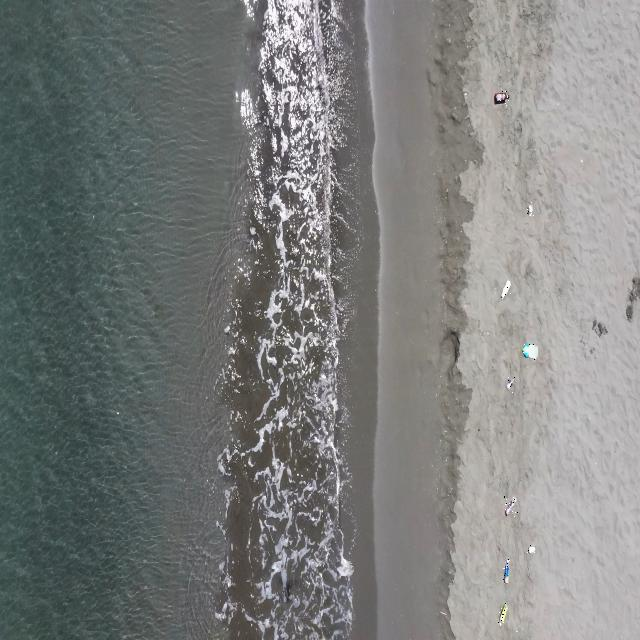Garbage: (504, 496, 515, 515), (500, 280, 510, 299), (523, 344, 535, 359), (493, 91, 507, 103), (499, 603, 507, 624), (506, 376, 515, 388), (503, 557, 507, 583), (527, 203, 532, 216), (527, 544, 535, 552)
